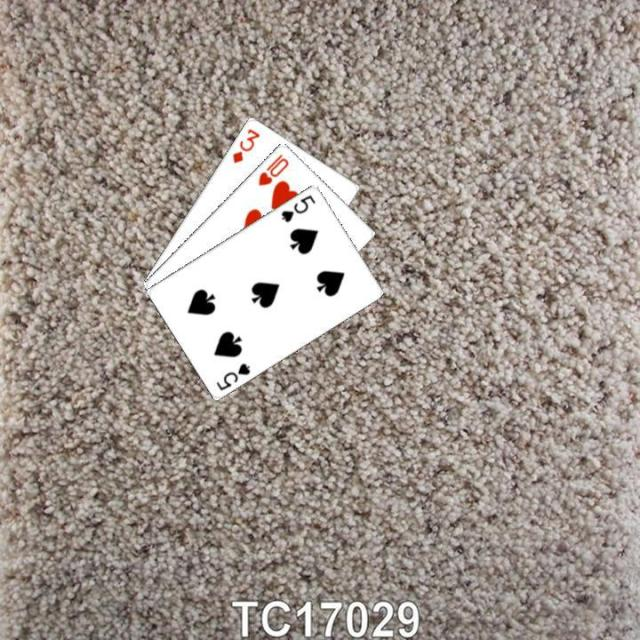10H: (254, 150, 291, 188)
3D: (228, 124, 262, 166)
5S: (278, 190, 318, 224), (212, 359, 252, 392)
